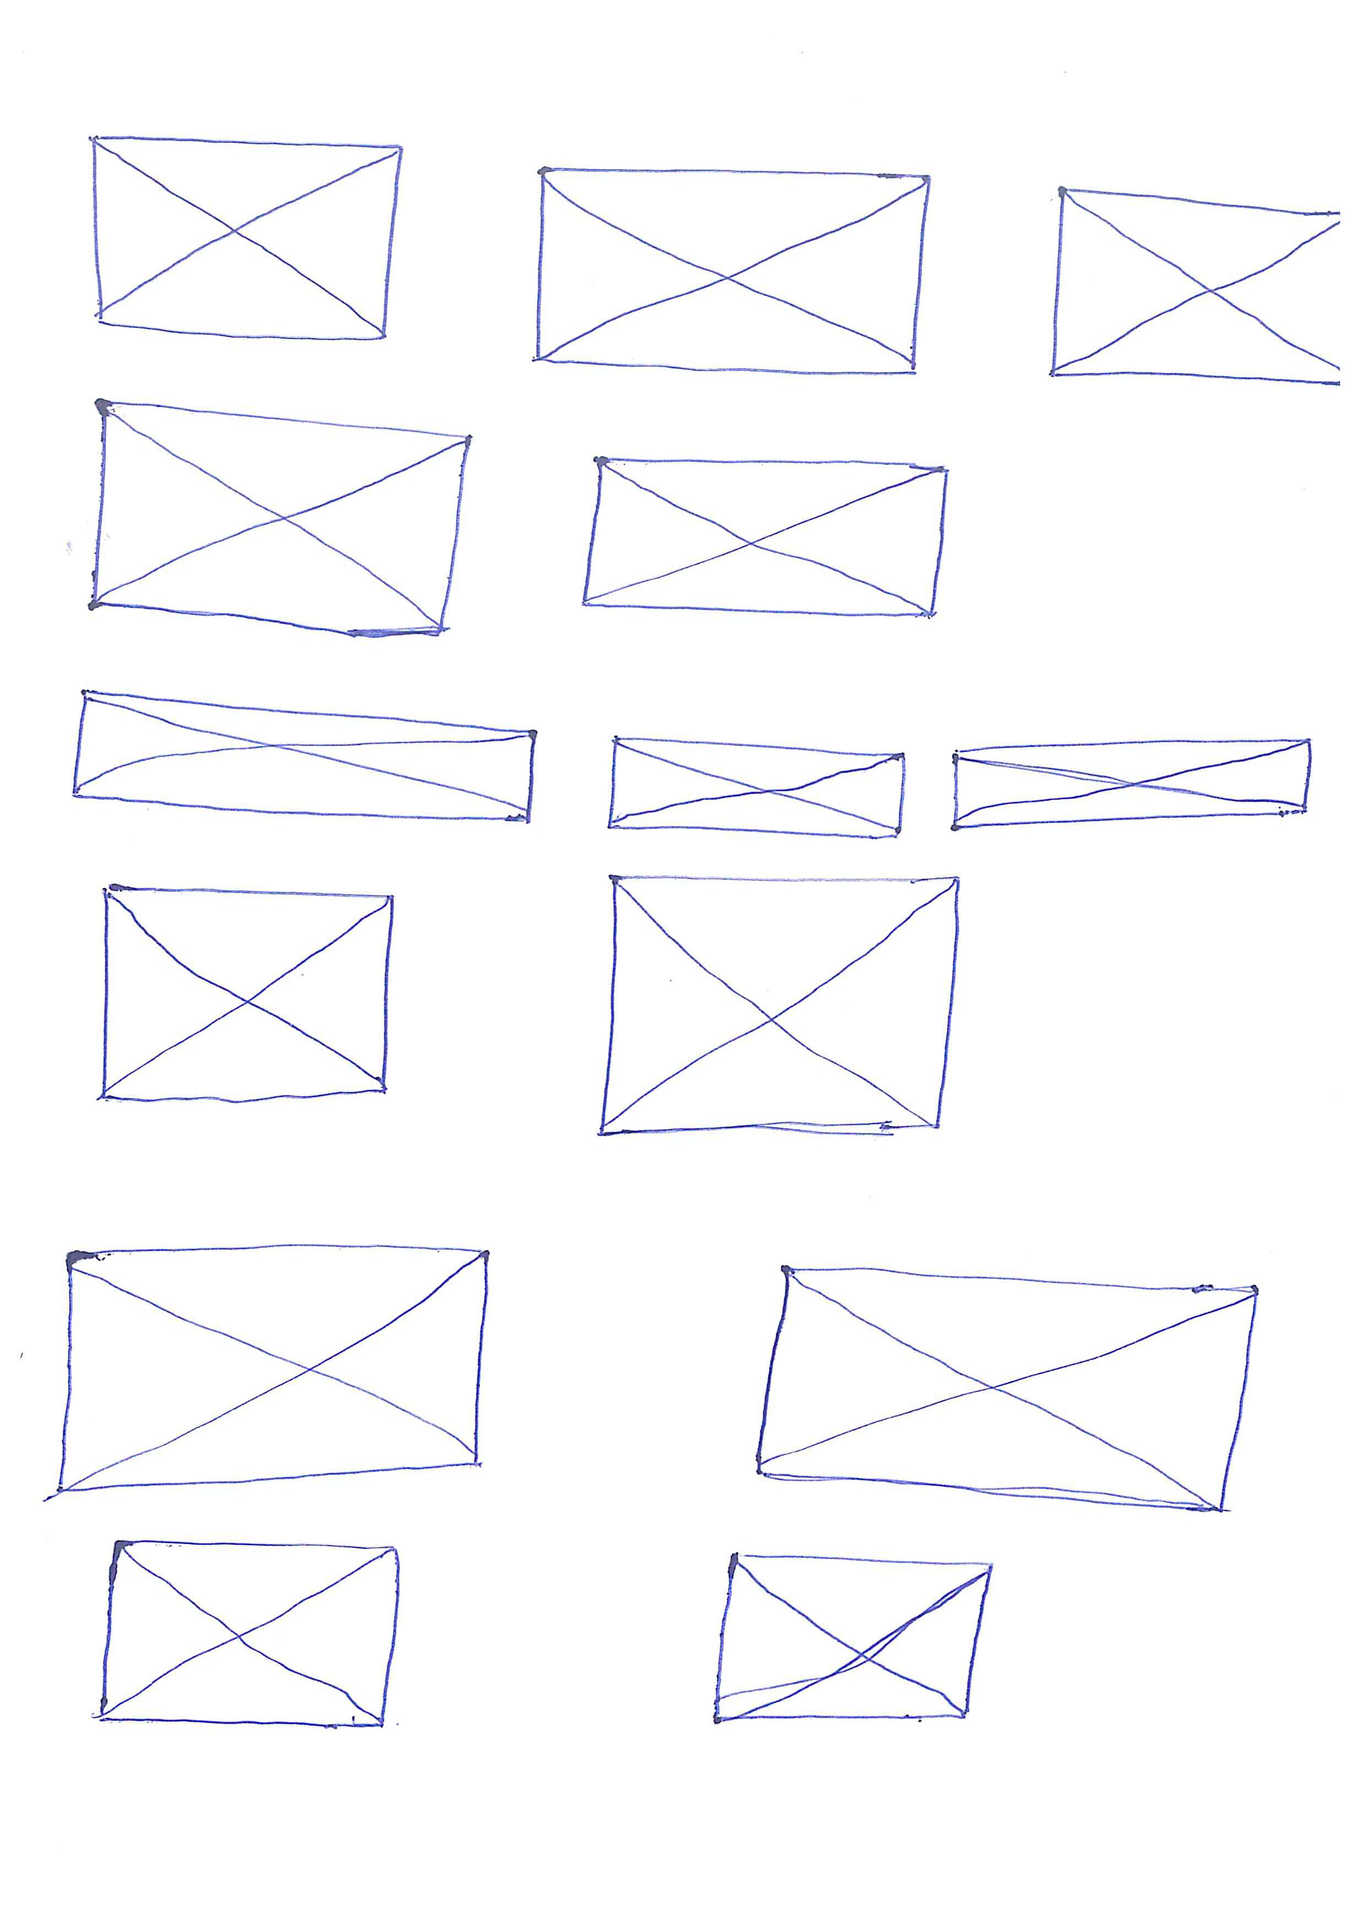Image: (752, 1263, 1264, 1517), (55, 1242, 492, 1499), (594, 871, 962, 1141), (86, 398, 472, 642), (532, 163, 931, 377), (95, 881, 401, 1106), (87, 132, 404, 346), (71, 688, 540, 824), (89, 1538, 404, 1731), (577, 458, 951, 621), (1047, 189, 1344, 384), (707, 1552, 993, 1725), (949, 736, 1311, 832), (606, 736, 908, 841)
